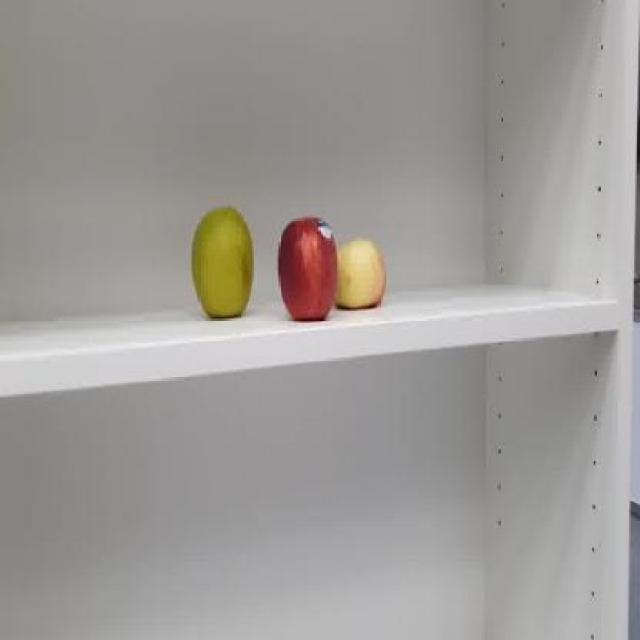Fresh Apple: (183, 205, 261, 321), (275, 214, 335, 332), (330, 236, 383, 309)
